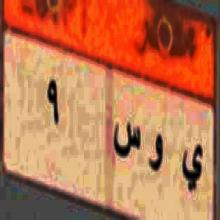9: (42, 78, 65, 125)
seen: (110, 123, 143, 162)
waw: (146, 129, 165, 180)
yaa: (181, 134, 205, 196)
